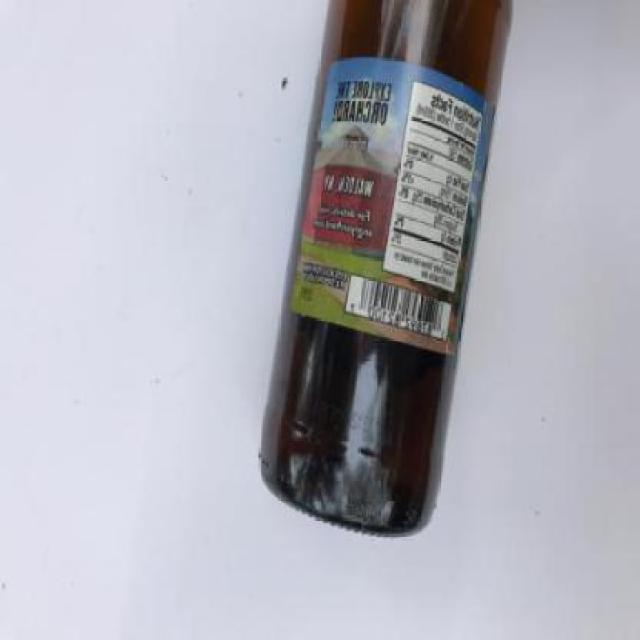GLASS: (257, 2, 512, 540)
PAPER: (288, 59, 494, 355)
